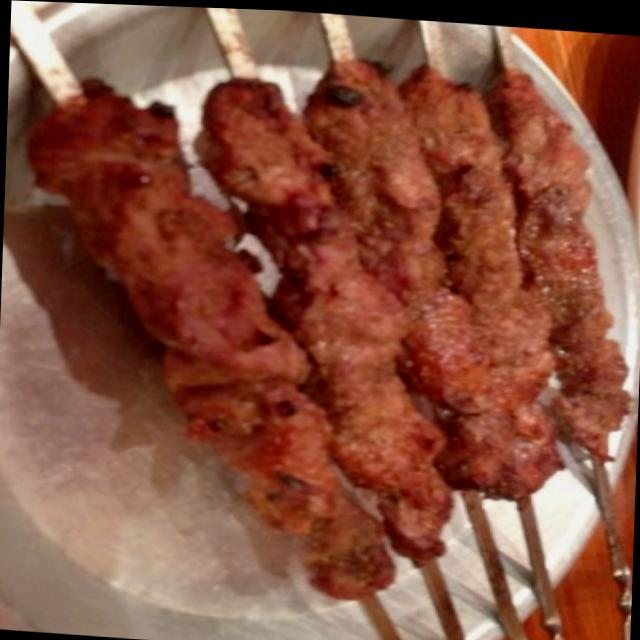烧串烤肉: (12, 0, 640, 640)
